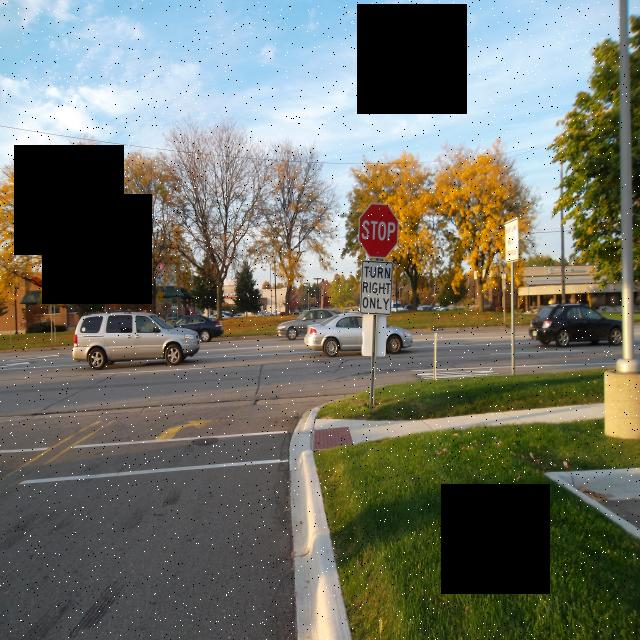regulatory: (359, 260, 394, 318)
stop: (357, 202, 399, 260)
